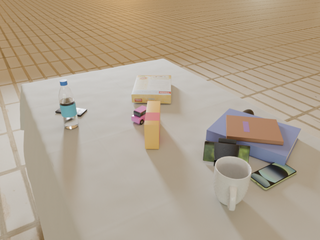book: (206, 109, 301, 166), (226, 115, 284, 145)
bottle: (59, 79, 79, 129)
box: (132, 75, 171, 103), (144, 101, 161, 149)
cup: (213, 156, 252, 211)
phone: (251, 163, 296, 190), (203, 141, 250, 163), (55, 108, 87, 116)
toy_car: (131, 106, 147, 124)
